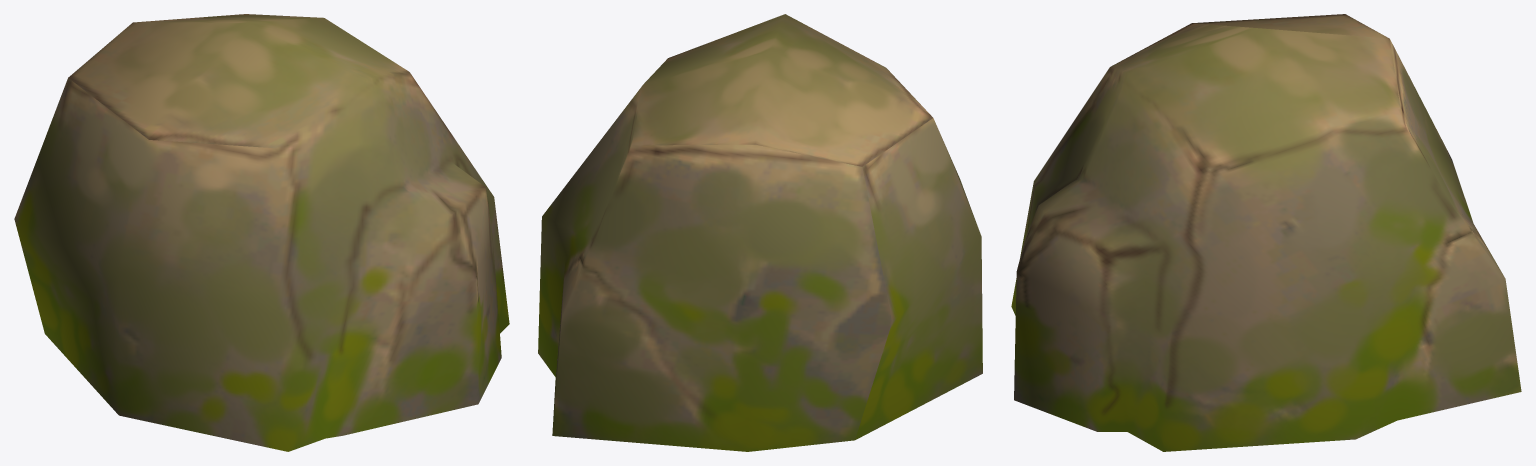
Rendered from sences_changbanpo_shitou001.FBX.
3 renders of one model, left to right at view 1: azimuth 30°, elevation 25°; view 2: azimuth 150°, elevation 25°; view 3: azimuth 270°, elevation 25°, orthographic. The views are drawn at different scales.
Visible parts, largest first — view 1: sences_changbanpo_shitou001; view 2: sences_changbanpo_shitou001; view 3: sences_changbanpo_shitou001.
Boxes of the visible parts, <box> form: sences_changbanpo_shitou001: <box>14,14,509,451</box>; sences_changbanpo_shitou001: <box>538,14,982,451</box>; sences_changbanpo_shitou001: <box>1011,14,1521,451</box>.
Size of the model in its own units: 2.59 by 2.9 by 2.
